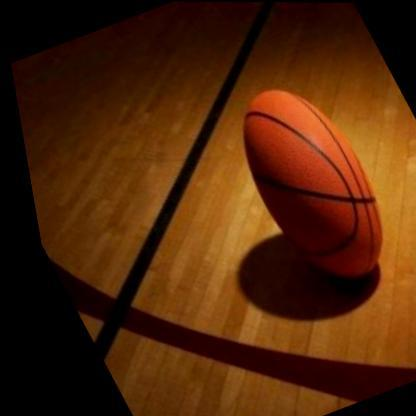basketball: (202, 70, 413, 298)
